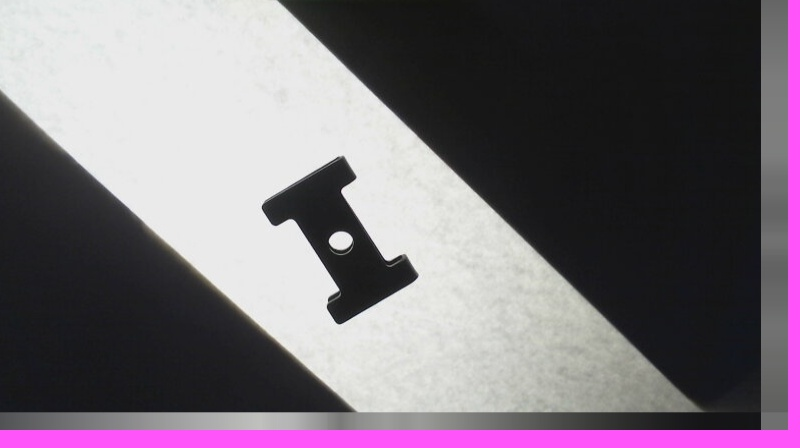O002: (255, 152, 420, 325)
